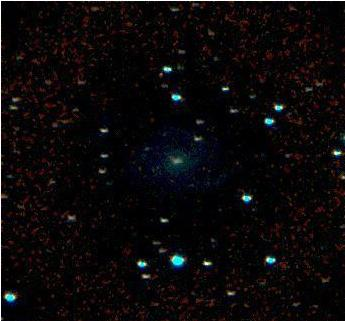star: (128, 131, 158, 161)
